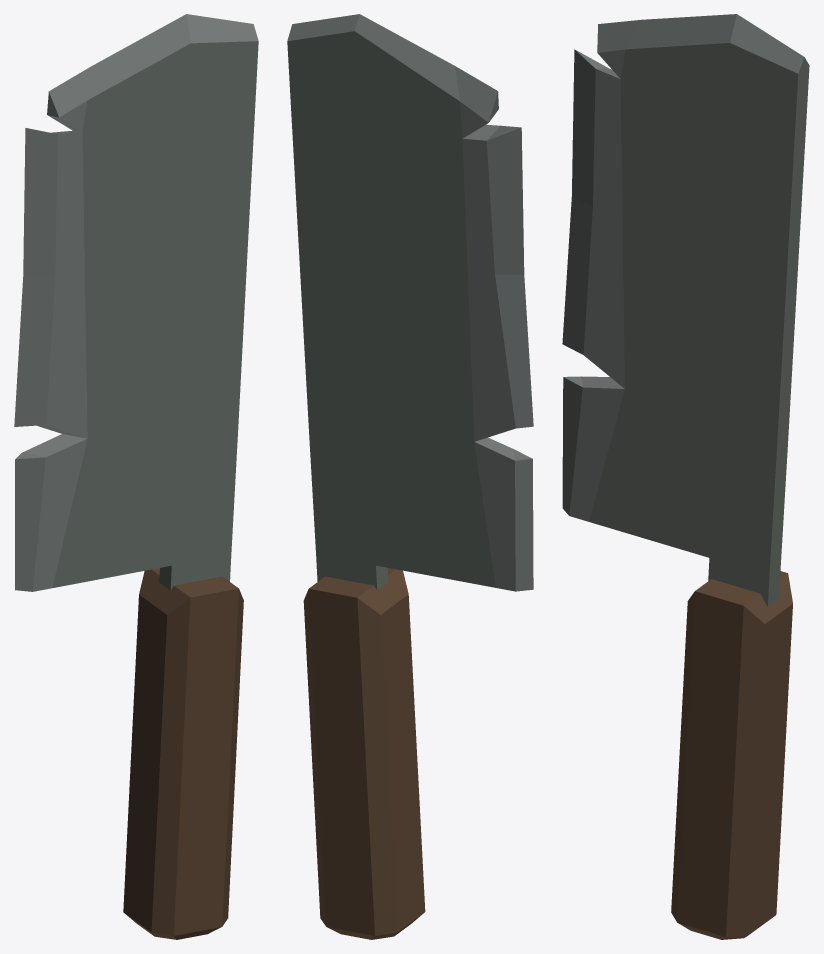
File: SM_Knife.gltf
3 renders of one model, left to right at view 1: azimuth 30°, elevation 25°; view 2: azimuth 150°, elevation 25°; view 3: azimuth 330°, elevation 25°, orthographic.
Visible parts, largest first — view 1: SM_Knife; view 2: SM_Knife; view 3: SM_Knife.
Part boxes in pixels (left/top/right/bottom): SM_Knife: left=14, top=14, right=258, bottom=939; SM_Knife: left=287, top=14, right=533, bottom=939; SM_Knife: left=562, top=14, right=809, bottom=939.
Size of the model in its own units: 0.1633 by 0.5902 by 0.0529.
1 material, 1 textured.
